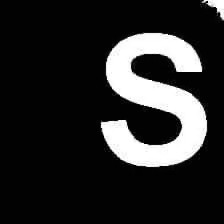LTR_S: (97, 22, 209, 168)
